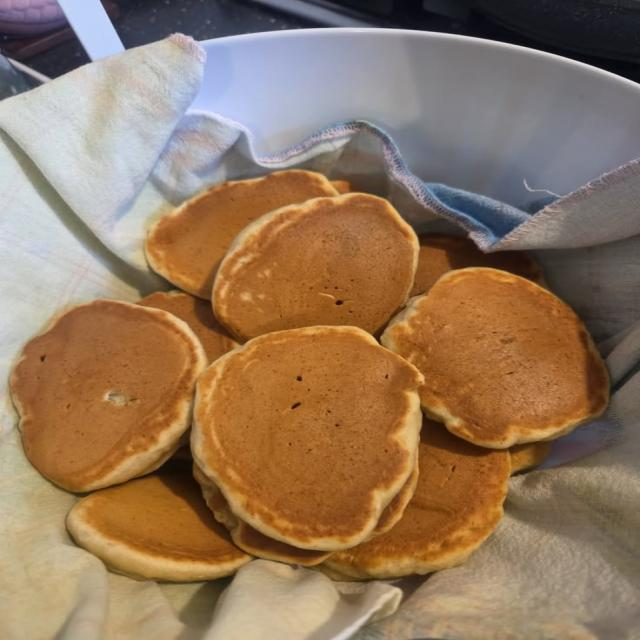pancake: (192, 327, 422, 550), (382, 268, 608, 448), (10, 301, 207, 491), (213, 194, 418, 341), (325, 420, 510, 578), (145, 170, 337, 299), (67, 474, 251, 581), (193, 464, 331, 566), (194, 464, 330, 566), (410, 234, 544, 296), (138, 291, 238, 362), (373, 458, 419, 535), (509, 441, 551, 474), (331, 181, 356, 194)
